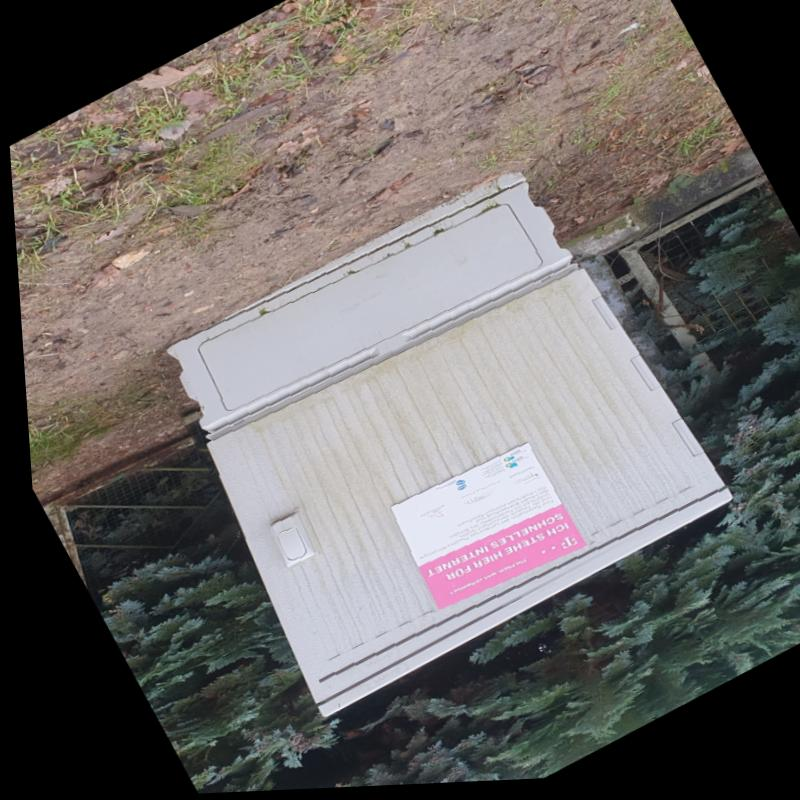NT-Gehause: (129, 147, 738, 716)
Steaker: (379, 449, 586, 619)
